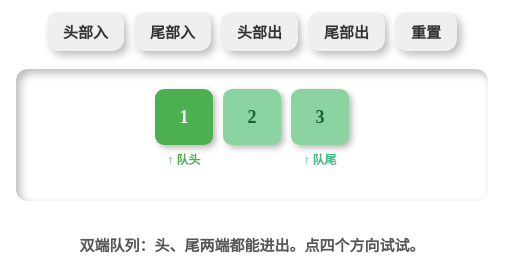
Scenario: DequeViz 双端队列互动 › TC-VIZ-DEQUEVIZ-04 头部入：4 dqitem、首位=新值、status 含「头」
The width and height of the screenshot is (505, 273).
Click the button "头部入" at (86, 32), box top-left (47, 12), bottom-right (124, 51)
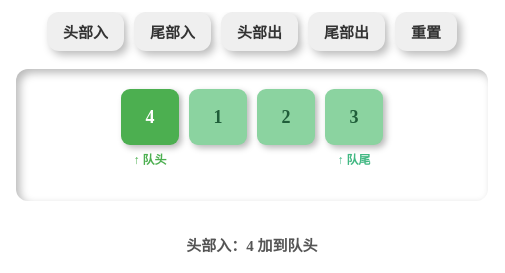
Check: the message with class "status" shows "头", box top-left (186, 234), bottom-right (318, 256)
Check: the number of elements with class "dqitem" is 4, box top-left (121, 89), bottom-right (179, 145); top-left (189, 89), bottom-right (247, 145); top-left (257, 89), bottom-right (315, 145); top-left (325, 89), bottom-right (383, 145)
Check: the text "4" is shown, box top-left (121, 89), bottom-right (179, 145)
